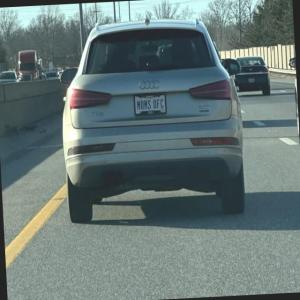Plate: (134, 93, 167, 116)
